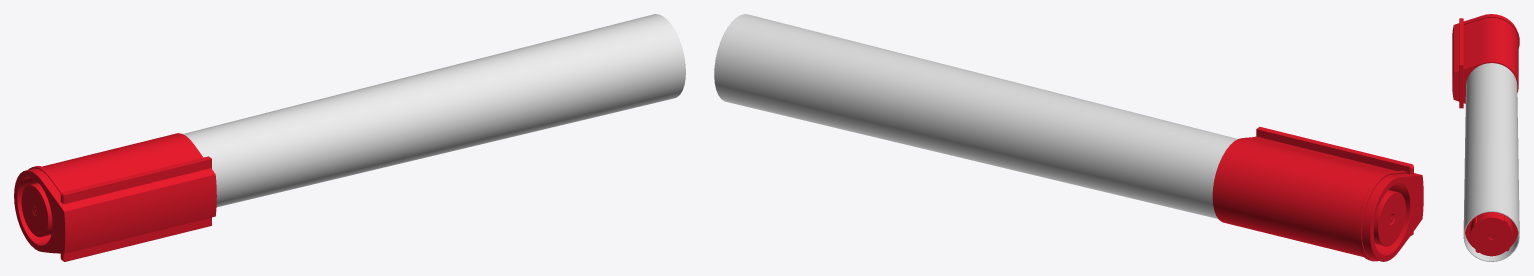
Rendered from Pennarello.fbx.
3 views of the same model, side by side, from view 1: azimuth 30°, elevation 25°; view 2: azimuth 150°, elevation 25°; view 3: azimuth 270°, elevation 25° (orthographic). The views are drawn at different scales.
Visible parts, largest first — view 1: cap; view 2: cap; view 3: cap.
Part boxes in pixels (x1,y1,x2,y2): cap: (14,14,685,261); cap: (714,14,1423,261); cap: (1452,14,1519,261).
Bounding box in the file's own units: 13.76 × 1.67 × 1.97.
